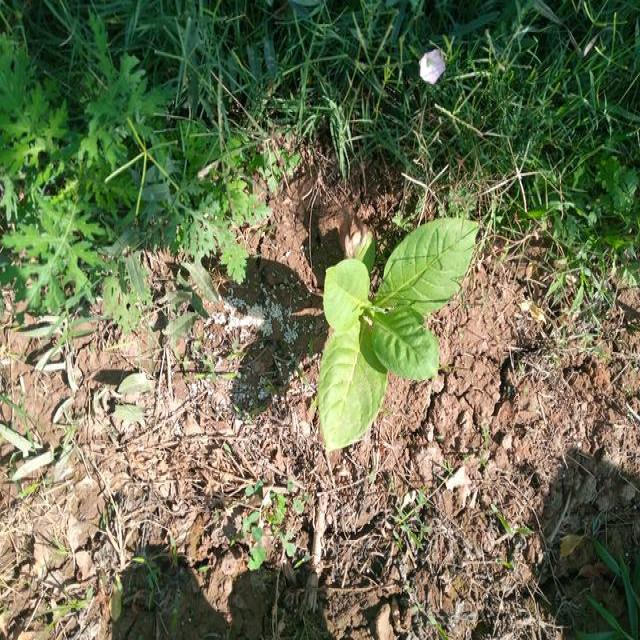crop: (318, 218, 481, 448)
